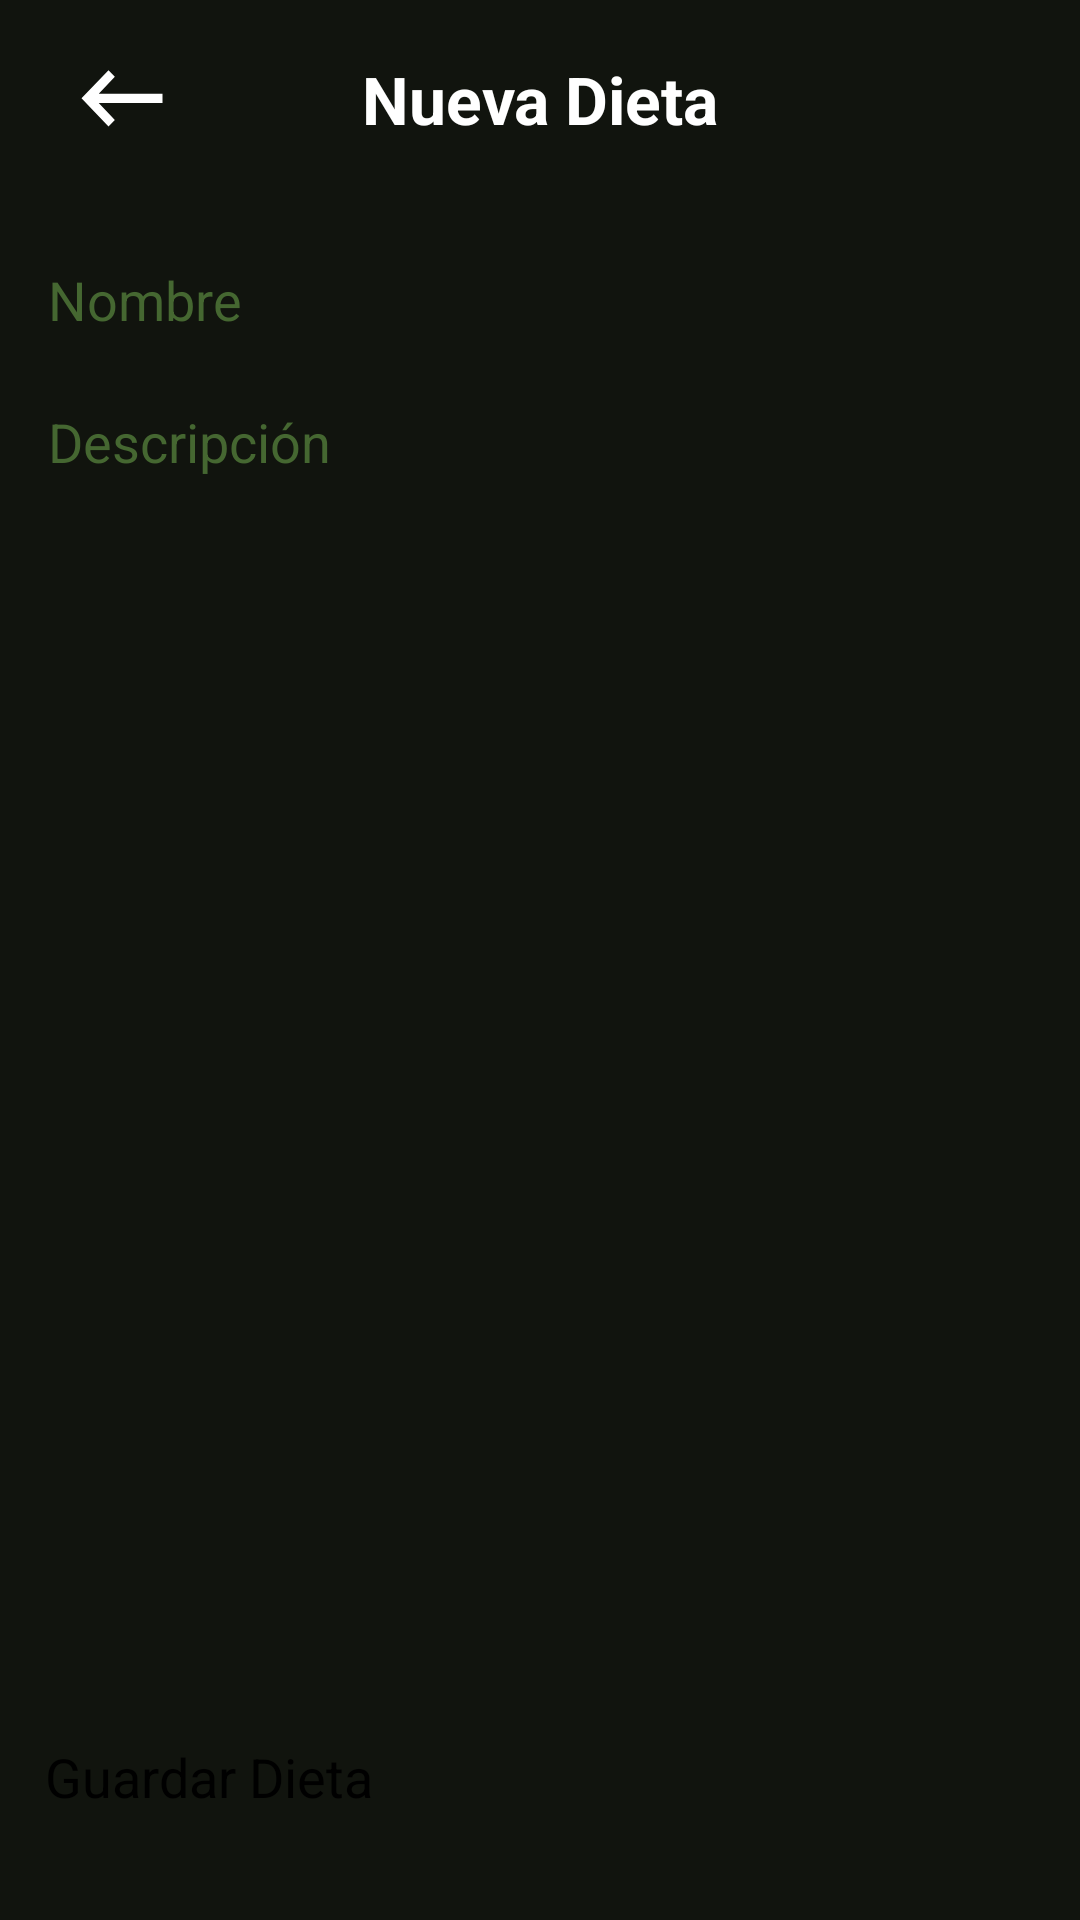

Icons on this 1080x1920 Android screen, each with its box as region(x1, y1, x2, y2):
flecha atras: region(81, 70, 163, 127)
